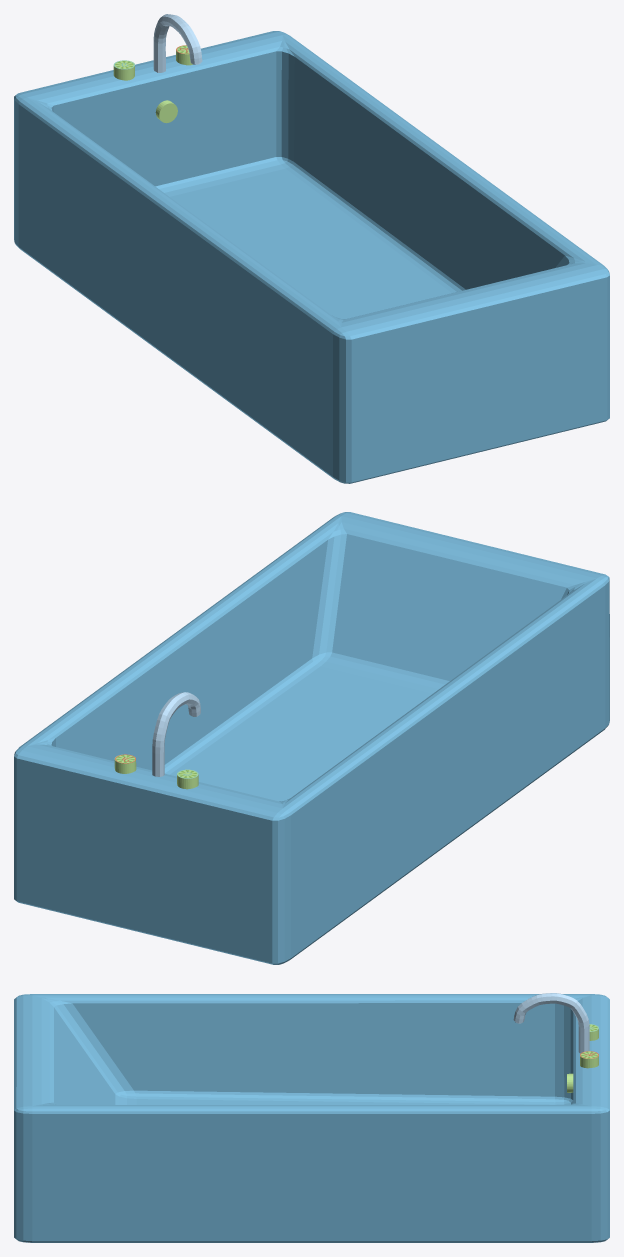
Rendered from tub.glb.
3 views of the same model, one above another, from view 1: azimuth 30°, elevation 25°; view 2: azimuth 150°, elevation 25°; view 3: azimuth 270°, elevation 25° (orthographic). The views are drawn at different scales.
Visible parts, largest first — view 1: Object_2; view 2: Object_2; view 3: Object_2.
Boxes of the visible parts, x1=… form: Object_2: x1=14, y1=14, x2=609, y2=483; Object_2: x1=14, y1=512, x2=609, y2=964; Object_2: x1=14, y1=993, x2=609, y2=1242.
Size of the model in its own units: 2 by 1.52 by 4.26.
1 material, 1 textured.
